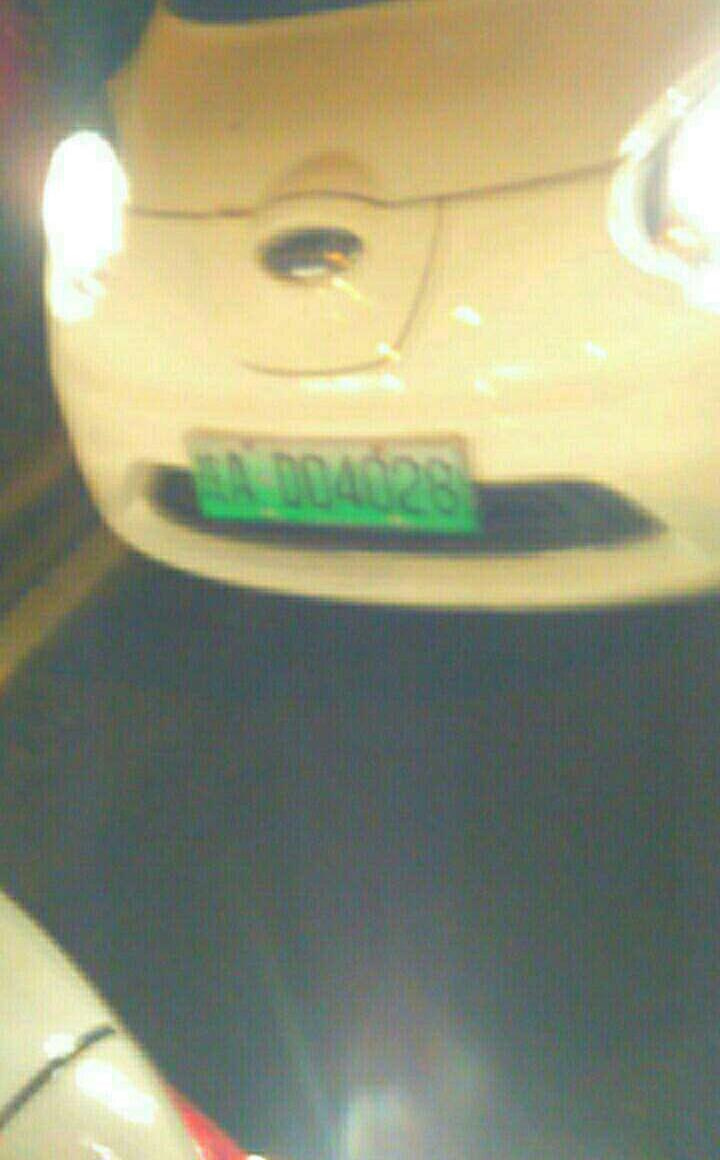car: (179, 422, 484, 535)
